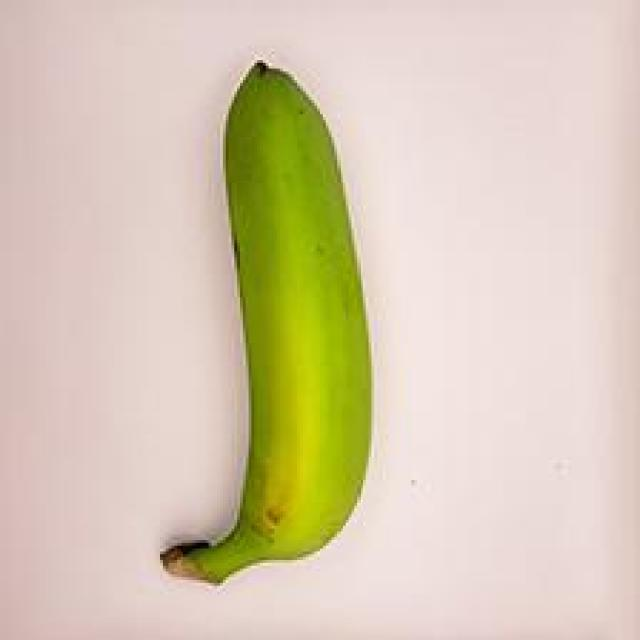Unripe: (127, 52, 409, 607)
